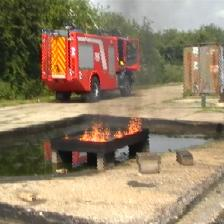fire: (76, 124, 146, 141)
